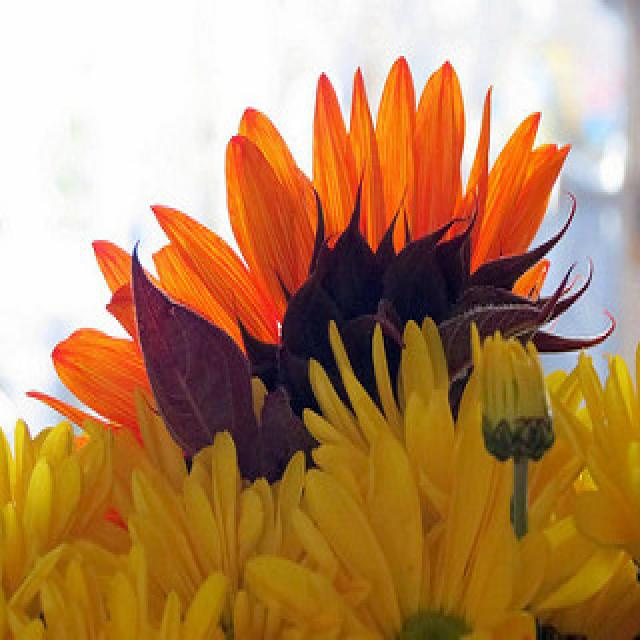sunflower: (18, 48, 582, 493), (462, 314, 560, 474)
